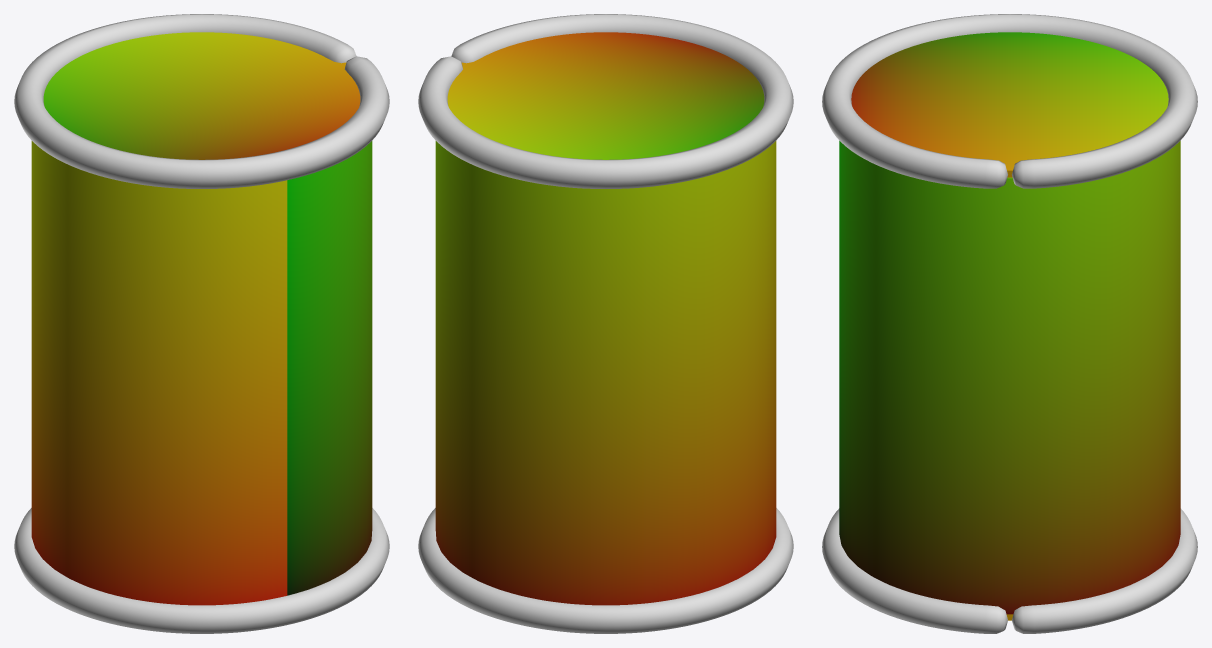
Rendered from can_soup.glb.
3 views of the same model, side by side, from view 1: azimuth 30°, elevation 25°; view 2: azimuth 150°, elevation 25°; view 3: azimuth 270°, elevation 25° (orthographic).
Parts seen in each view (by area): view 1: can_soup; view 2: can_soup; view 3: can_soup.
Part boxes in pixels (<box>): can_soup: <box>14,14,389,633</box>; can_soup: <box>418,14,793,633</box>; can_soup: <box>822,14,1197,633</box>.
Bounding box in the file's own units: 0.0725 × 0.1009 × 0.0727.
